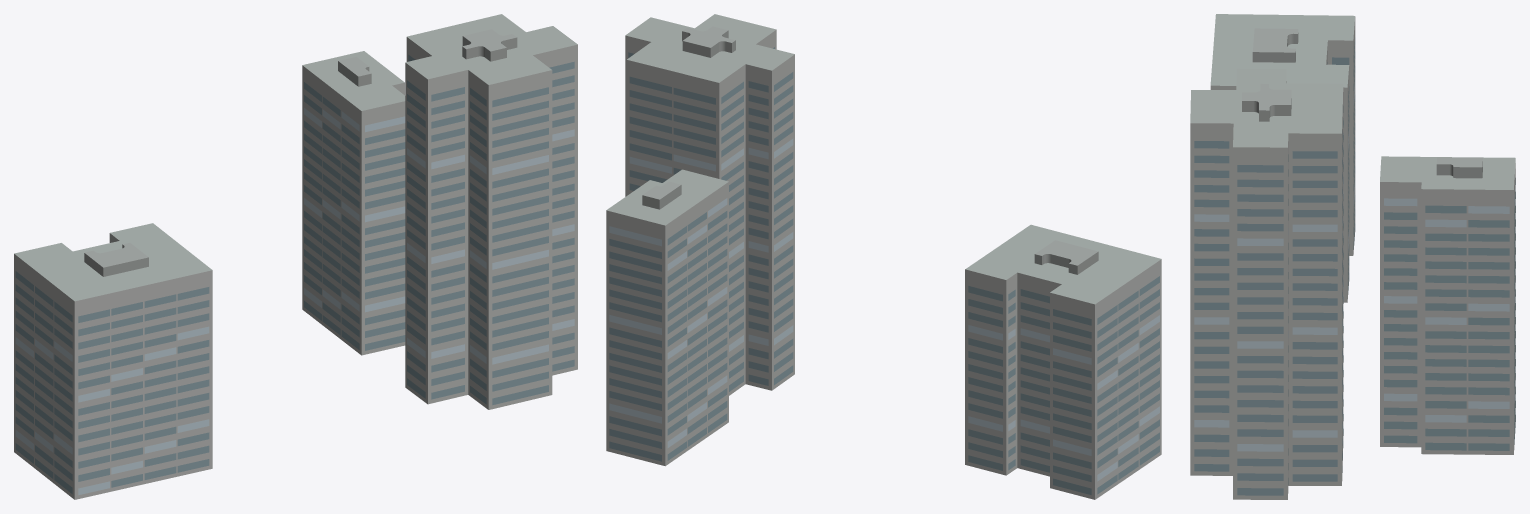
Rendered from apt-a13613004.glb.
3 views of the same model, side by side, from view 1: azimuth 30°, elevation 25°; view 2: azimuth 150°, elevation 25°; view 3: azimuth 270°, elevation 25° (orthographic). The views are drawn at different scales.
Visible parts, largest first — view 1: apt-a13613004; view 2: apt-a13613004; view 3: apt-a13613004.
Part boxes in pixels (x1,y1,x2,y2): apt-a13613004: (14,14,577,499); apt-a13613004: (606,14,1161,499); apt-a13613004: (1190,14,1515,499).
Size of the model in its own units: 126 by 79 by 64.19.
